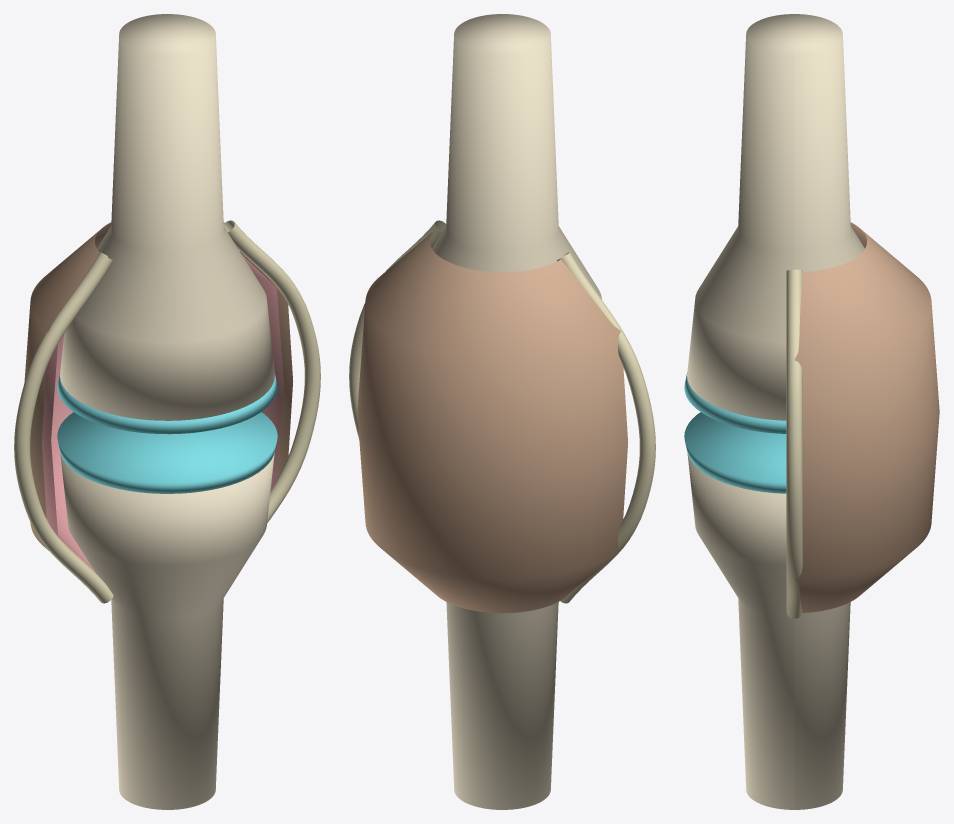
File: synovial.glb
The picture shows the model from 3 angles, left to right: view 1: azimuth 30°, elevation 25°; view 2: azimuth 150°, elevation 25°; view 3: azimuth 270°, elevation 25°; orthographic projection.
Visible parts, largest first — view 1: Osso_superior, Osso_inferior, Cartilagem_inferior, Capsula_fibrosa_em_corte, Ligamento_extrinseco_-1, Membrana_sinovial_em_corte, Ligamento_extrinseco_1, Cartilagem_superior; view 2: Capsula_fibrosa_em_corte, Osso_superior, Osso_inferior, Ligamento_extrinseco_-1, Ligamento_extrinseco_1; view 3: Capsula_fibrosa_em_corte, Osso_superior, Osso_inferior, Cartilagem_inferior, Ligamento_extrinseco_1, Cartilagem_superior.
Boxes of the visible parts, x1,y1,x2,y2 form: Osso_superior: (60, 14, 274, 420); Osso_inferior: (60, 453, 274, 809); Cartilagem_inferior: (57, 412, 277, 493); Capsula_fibrosa_em_corte: (24, 222, 293, 572); Ligamento_extrinseco_-1: (14, 252, 113, 603); Membrana_sinovial_em_corte: (41, 255, 283, 574); Ligamento_extrinseco_1: (223, 220, 320, 523); Cartilagem_superior: (57, 373, 277, 434); Capsula_fibrosa_em_corte: (357, 230, 628, 613); Osso_superior: (432, 14, 601, 299); Osso_inferior: (446, 602, 558, 809); Ligamento_extrinseco_-1: (556, 252, 655, 603); Ligamento_extrinseco_1: (349, 220, 446, 439); Capsula_fibrosa_em_corte: (794, 222, 939, 612); Osso_superior: (687, 14, 864, 420); Osso_inferior: (687, 454, 850, 809); Cartilagem_inferior: (684, 412, 786, 493); Ligamento_extrinseco_1: (786, 269, 802, 618); Cartilagem_superior: (684, 373, 786, 433).
Bounding box in the file's own units: 0.1309 × 0.31 × 0.095.
